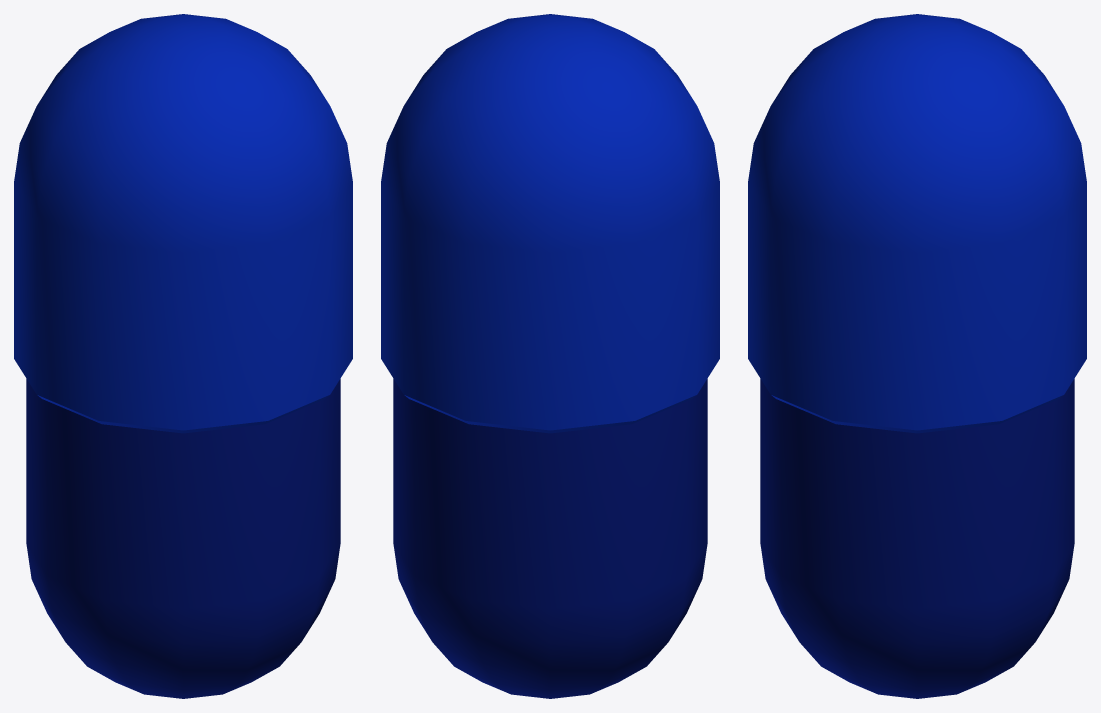
Rendered from pill_blue.FBX.
The picture shows the model from 3 angles, left to right: view 1: azimuth 30°, elevation 25°; view 2: azimuth 150°, elevation 25°; view 3: azimuth 270°, elevation 25°; orthographic projection.
Parts seen in each view (by area): view 1: blue; view 2: blue; view 3: blue.
Boxes of the visible parts, <box> form: blue: <box>14,14,352,698</box>; blue: <box>381,14,719,698</box>; blue: <box>748,14,1086,698</box>.
Size of the model in its own units: 55.21 by 118 by 55.21.
